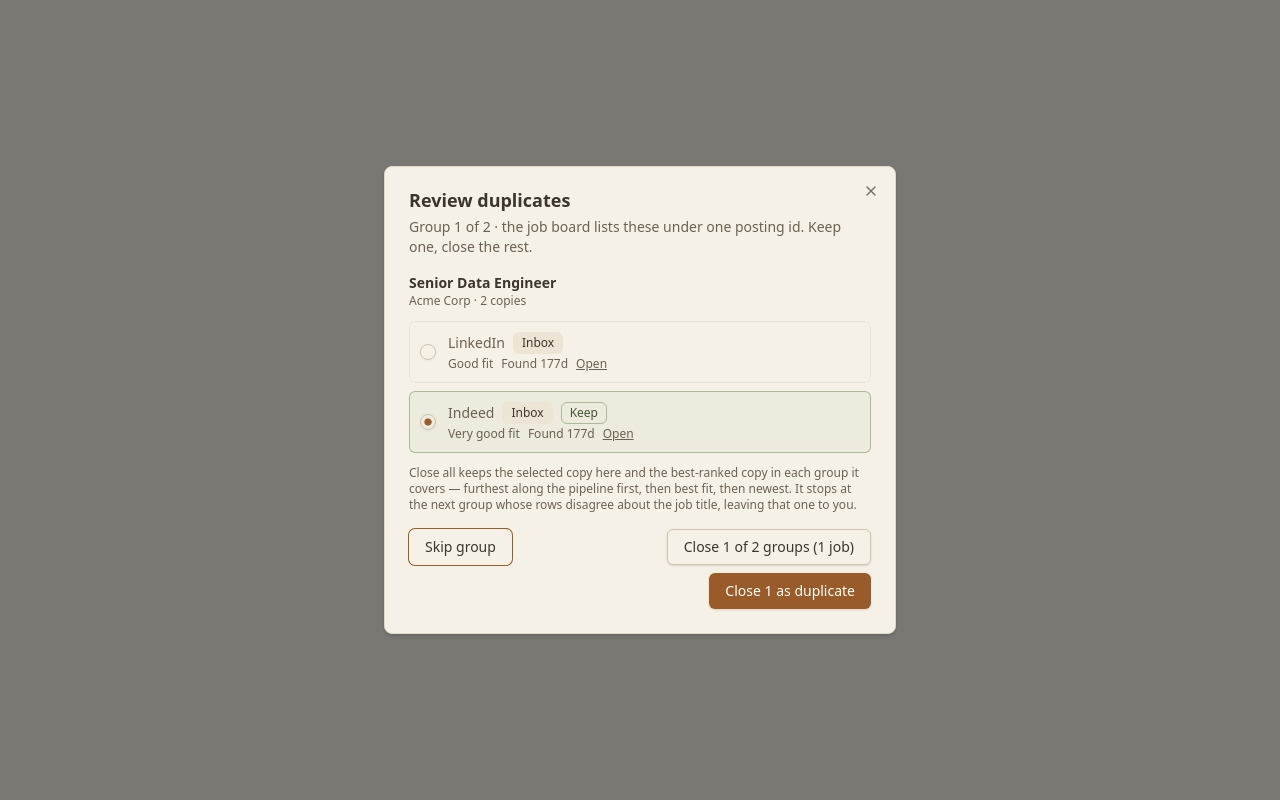
Test: DuplicateReviewModal › close all › batches whole groups under the bulk-action cap
Click the button "Close 1 of 2 groups (1 job)": (769, 547) [667,529,871,565]
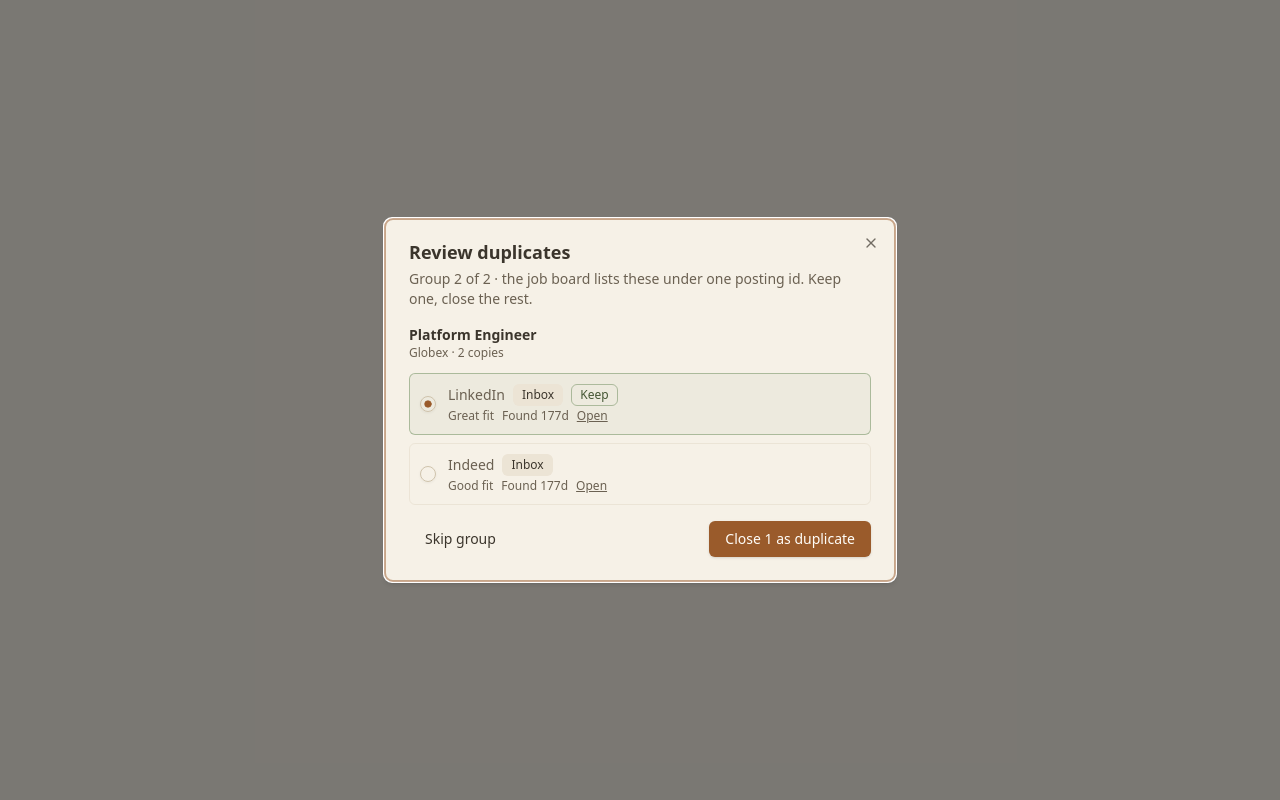
Check: the text "Platform Engineer" is shown, box [409,325,537,344]
